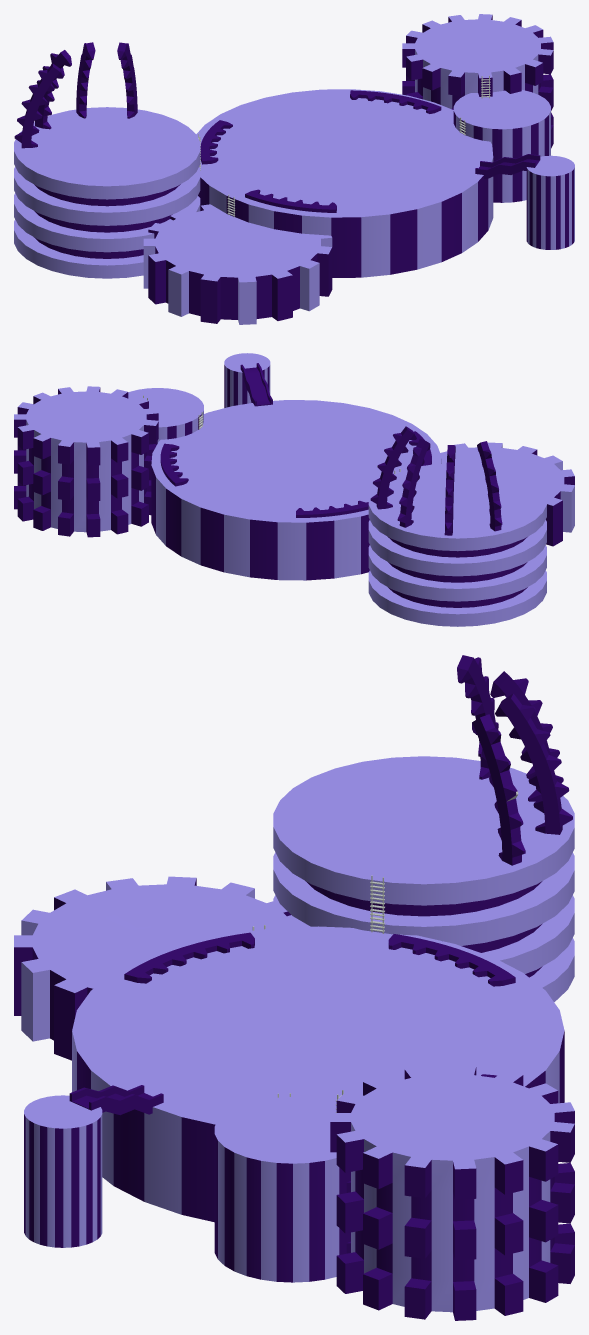
Rendered from F_Stage.fbx.
3 renders of one model, top to bottom at view 1: azimuth 30°, elevation 25°; view 2: azimuth 150°, elevation 25°; view 3: azimuth 270°, elevation 25°, orthographic. The views are drawn at different scales.
Visible parts, largest first — view 1: F_Stage_01; view 2: F_Stage_01; view 3: F_Stage_01.
Part boxes in pixels (x1=…): F_Stage_01: x1=14, y1=14, x2=574, y2=324; F_Stage_01: x1=14, y1=353, x2=574, y2=626; F_Stage_01: x1=14, y1=655, x2=574, y2=1320.
Size of the model in its own units: 16240 by 5125 by 9267.
